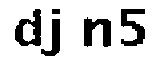5: (116, 5, 152, 52)
d: (8, 5, 44, 48)
j: (42, 4, 68, 60)
n: (80, 14, 115, 52)
